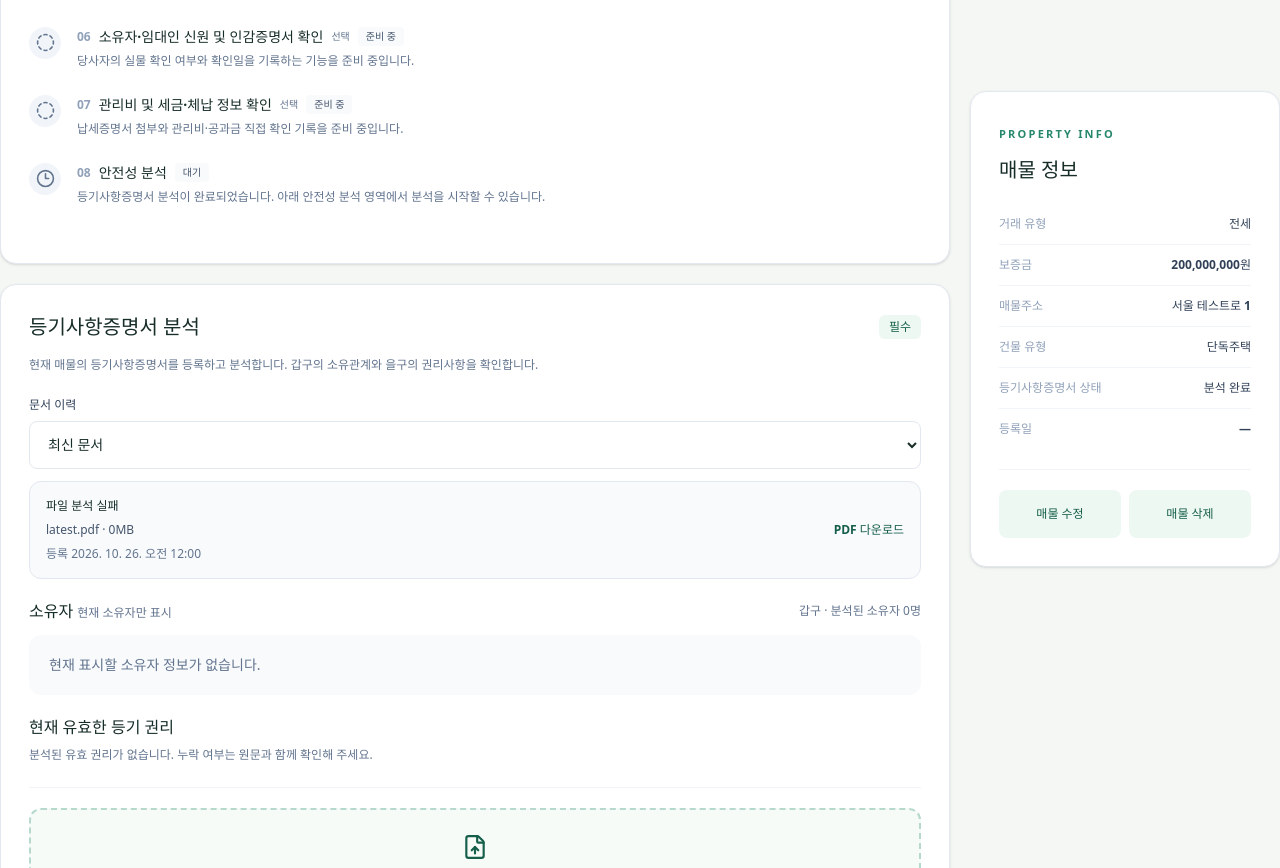
safety analysis state › selects an earlier registry document and displays its completion state and own analysis
(page scrolled)
Select "21" in the dropdown labelled "문서 이력" at point(475, 444), box [29,420,921,468]
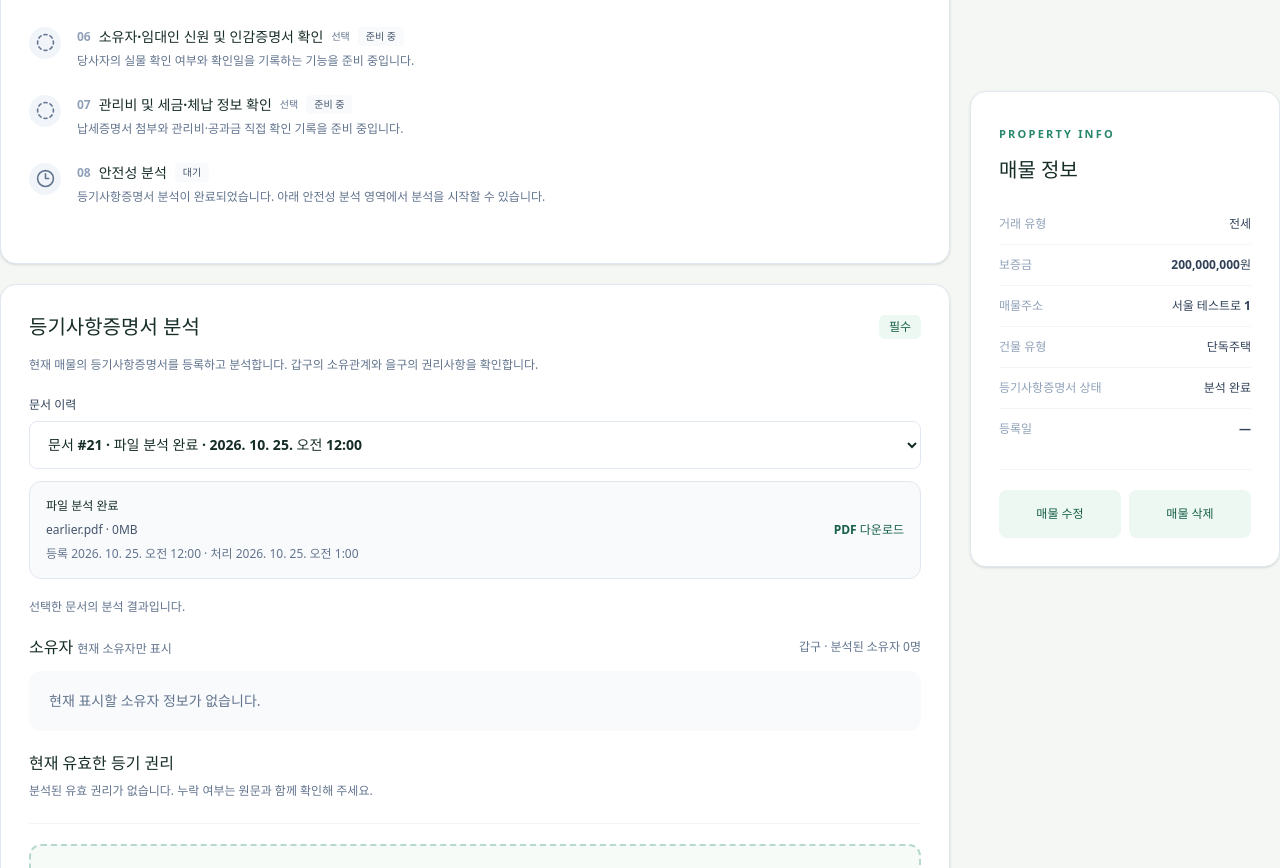
Expected: the button "PDF 다운로드" is shown, [834,522,904,538]
Now the text "파일 분석 완료" is shown, box [46,496,118,514]
Now the text "earlier.pdf · 0MB" is shown, box [46,522,138,538]
